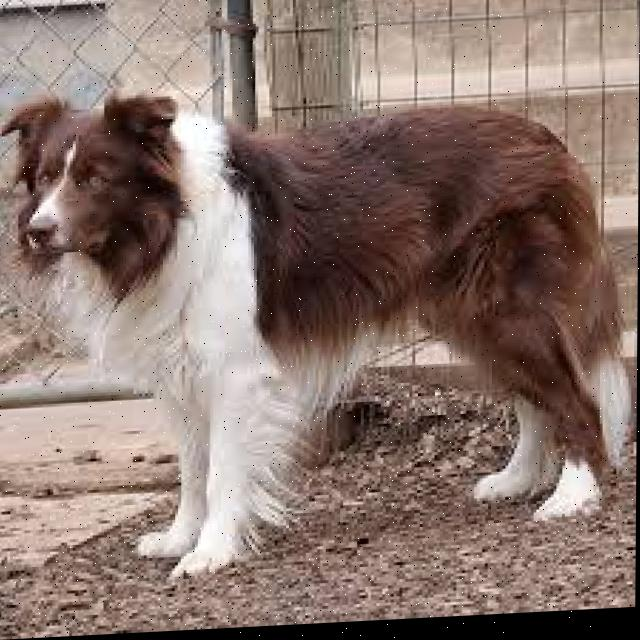BORDER_COLLIE: (0, 55, 640, 592)
